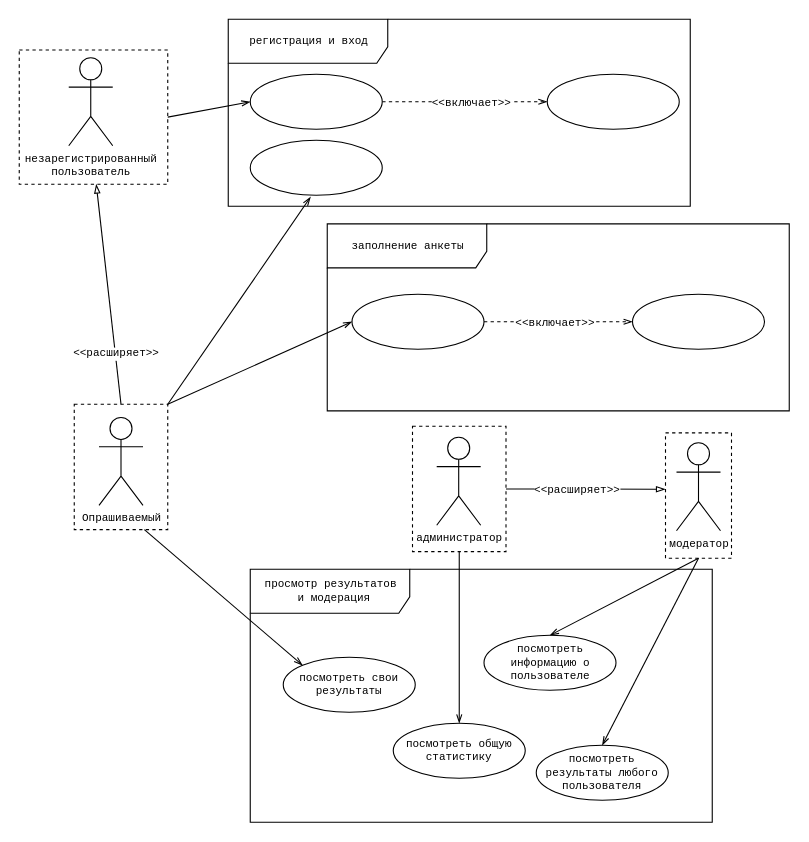
Some shapes in this 809 by 842 pixel diagram are drawn without their labels. Here are the shapes that lost their labels. From the top down, the centre of each, then its label:
At pixel 315 101: "зарегистрироваться в системме".
At pixel 612 101: "заполнить анкету с личной информацией".
At pixel 315 167: "войти в систему".
At pixel 417 321: "пройти тестирование".
At pixel 698 321: "проставить оценку слову".
